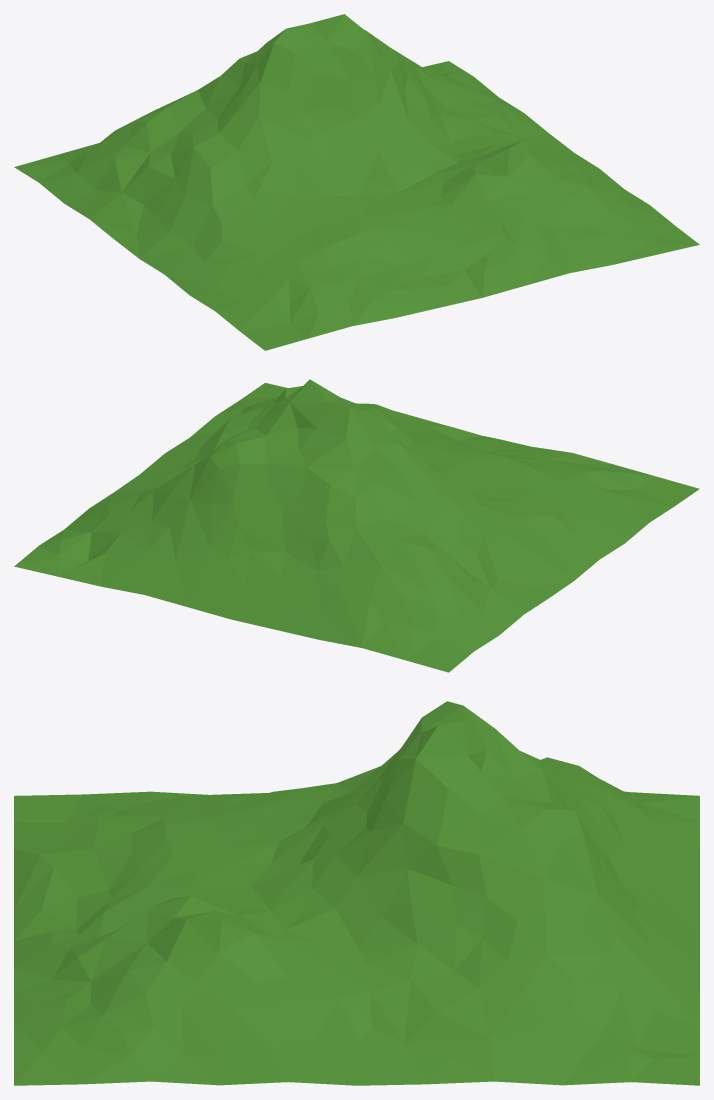
File: terrain-mountains.glb
The picture shows the model from 3 angles, top to bottom: view 1: azimuth 30°, elevation 25°; view 2: azimuth 150°, elevation 25°; view 3: azimuth 270°, elevation 25°; orthographic projection. The views are drawn at different scales.
Parts seen in each view (by area): view 1: terrain-mountains; view 2: terrain-mountains; view 3: terrain-mountains.
Boxes of the visible parts, x1=… form: terrain-mountains: x1=14, y1=14, x2=699, y2=350; terrain-mountains: x1=14, y1=379, x2=699, y2=672; terrain-mountains: x1=14, y1=701, x2=699, y2=1085.
Size of the model in its own units: 60 by 21.88 by 60.
Materials: 1 (1 with a texture image).
